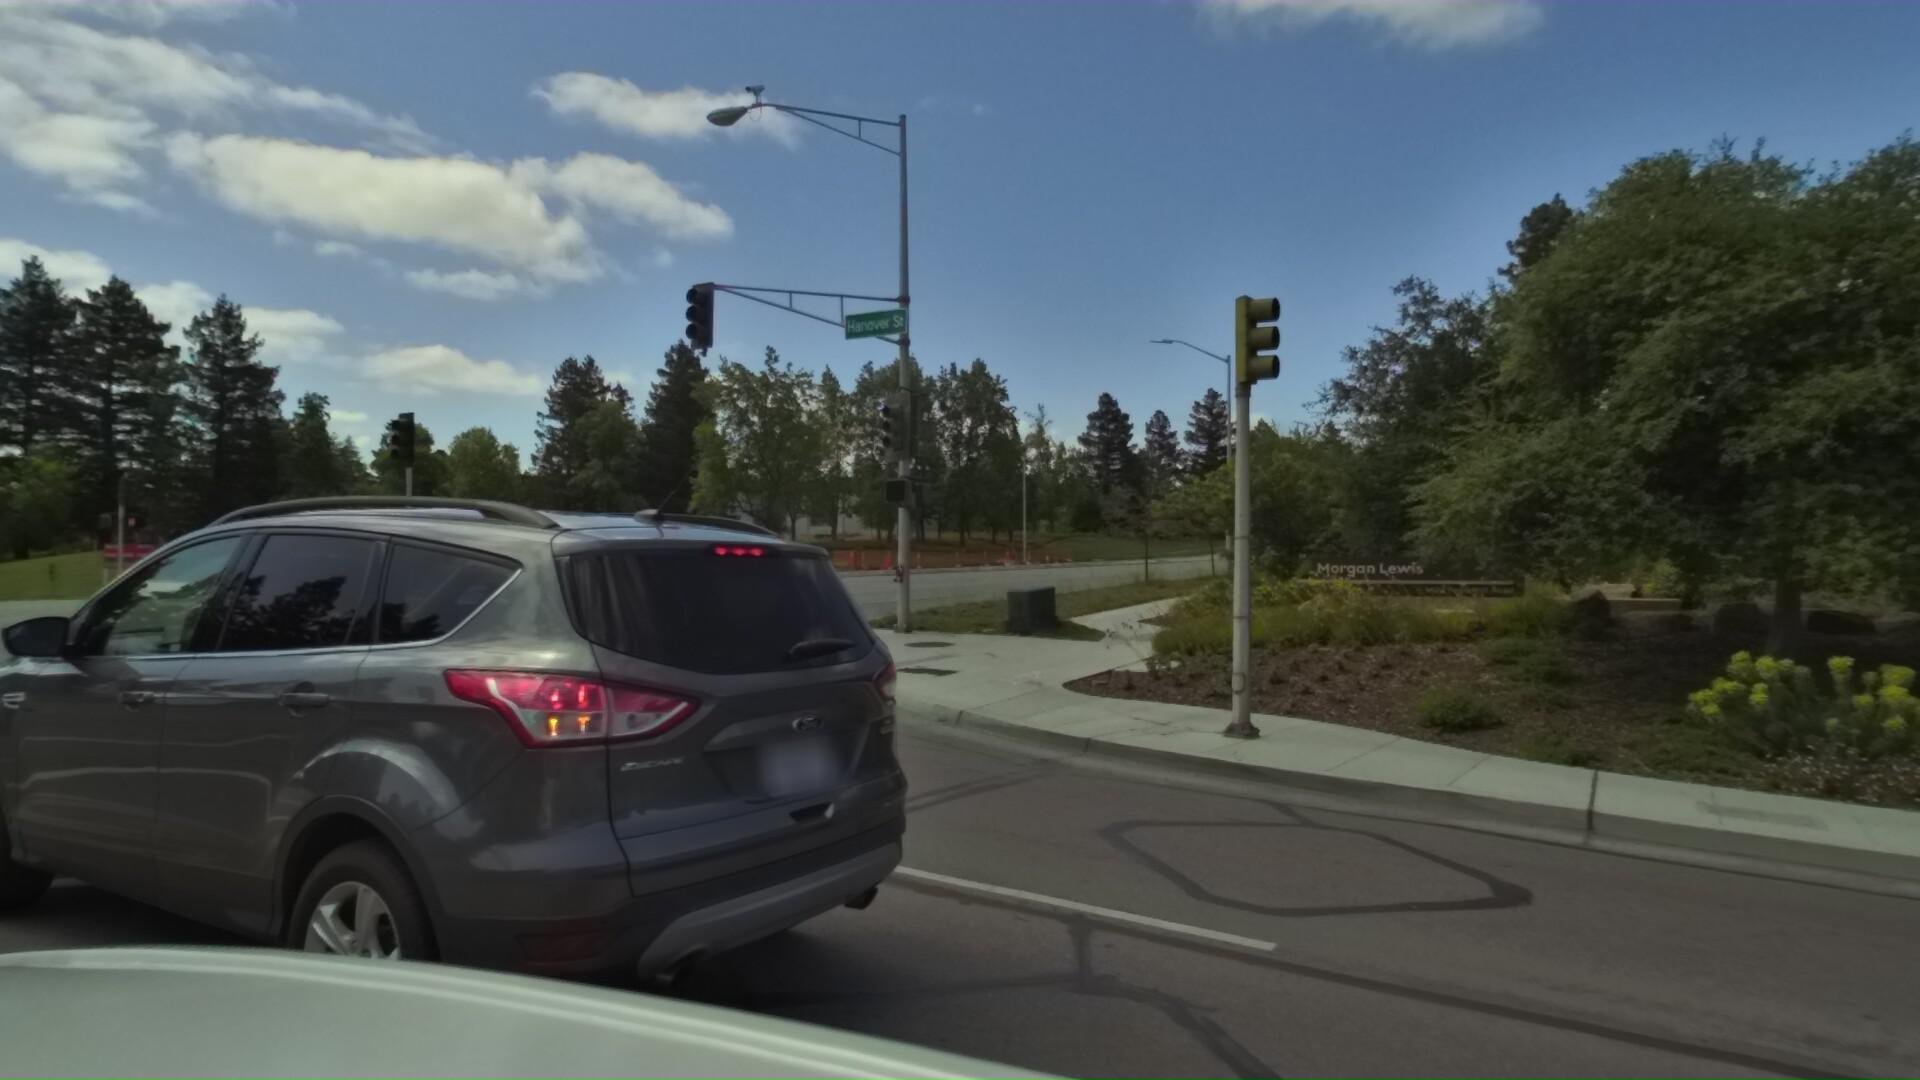car: (0, 442, 887, 1080), (262, 531, 440, 591), (647, 527, 774, 570)
